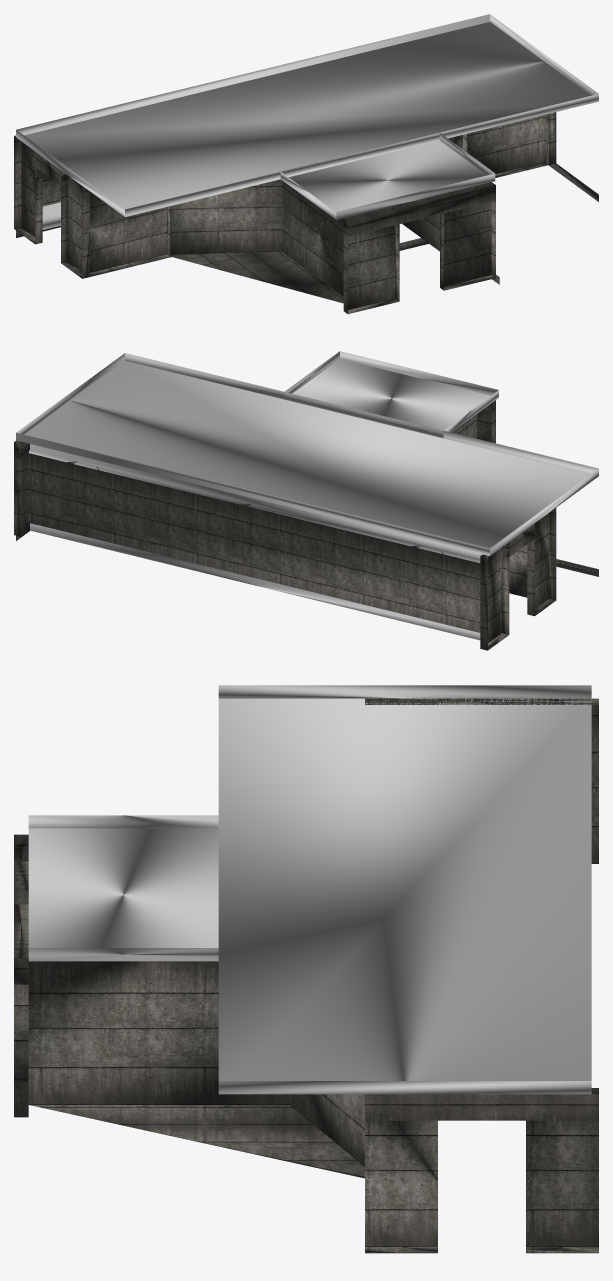
File: room3z2_opt.obj
The picture shows the model from 3 angles, top to bottom: view 1: azimuth 30°, elevation 25°; view 2: azimuth 150°, elevation 25°; view 3: azimuth 270°, elevation 25°; orthographic projection. The views are drawn at different scales.
Size of the model in its own units: 102 by 22.4 by 64.
